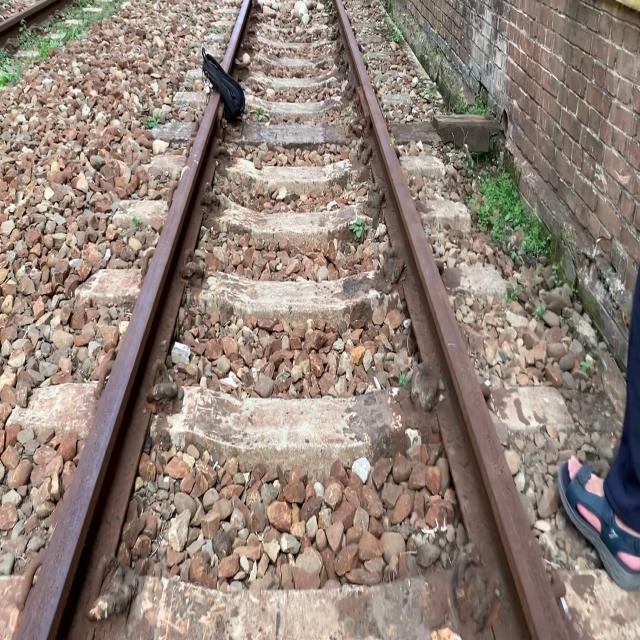danger: (529, 215, 640, 611), (190, 47, 254, 135)
rail: (0, 0, 611, 640)
